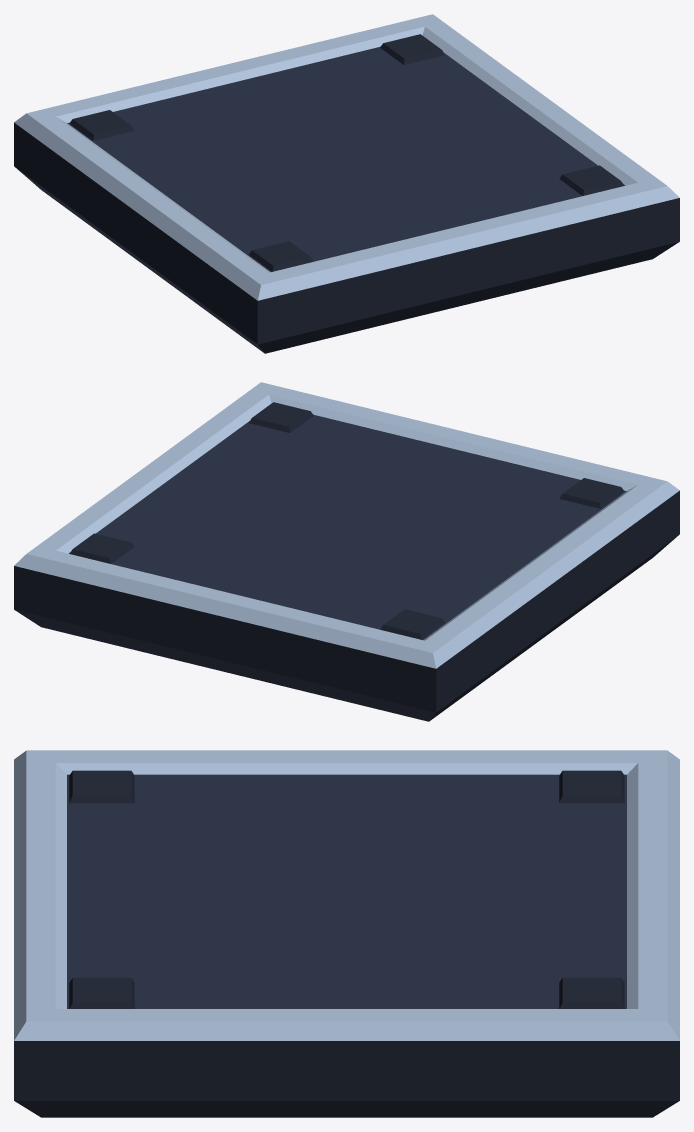
Rendered from SM_ArenaTile_SharedBase.obj.
3 renders of one model, top to bottom at view 1: azimuth 30°, elevation 25°; view 2: azimuth 150°, elevation 25°; view 3: azimuth 270°, elevation 25°, orthographic. The views are drawn at different scales.
Visible parts, largest first — view 1: SM_ArenaTile_SharedBase__MAT_AltNeutral, SM_ArenaTile_SharedBase__MAT_DarkNeutral, SM_ArenaTile_SharedBase__MAT_LightTrim; view 2: SM_ArenaTile_SharedBase__MAT_AltNeutral, SM_ArenaTile_SharedBase__MAT_DarkNeutral, SM_ArenaTile_SharedBase__MAT_LightTrim; view 3: SM_ArenaTile_SharedBase__MAT_AltNeutral, SM_ArenaTile_SharedBase__MAT_LightTrim, SM_ArenaTile_SharedBase__MAT_DarkNeutral.
Boxes of the visible parts, left/top/right/bottom form: SM_ArenaTile_SharedBase__MAT_AltNeutral: left=67, top=46, right=624, bottom=271; SM_ArenaTile_SharedBase__MAT_DarkNeutral: left=14, top=34, right=679, bottom=353; SM_ArenaTile_SharedBase__MAT_LightTrim: left=14, top=14, right=679, bottom=300; SM_ArenaTile_SharedBase__MAT_AltNeutral: left=69, top=414, right=626, bottom=639; SM_ArenaTile_SharedBase__MAT_DarkNeutral: left=14, top=402, right=679, bottom=721; SM_ArenaTile_SharedBase__MAT_LightTrim: left=14, top=382, right=679, bottom=668; SM_ArenaTile_SharedBase__MAT_AltNeutral: left=67, top=774, right=626, bottom=1008; SM_ArenaTile_SharedBase__MAT_LightTrim: left=14, top=750, right=679, bottom=1040; SM_ArenaTile_SharedBase__MAT_DarkNeutral: left=14, top=770, right=679, bottom=1117.
Bounding box in the file's own units: 11.8 × 2 × 11.8.
3 materials, 3 textured.
